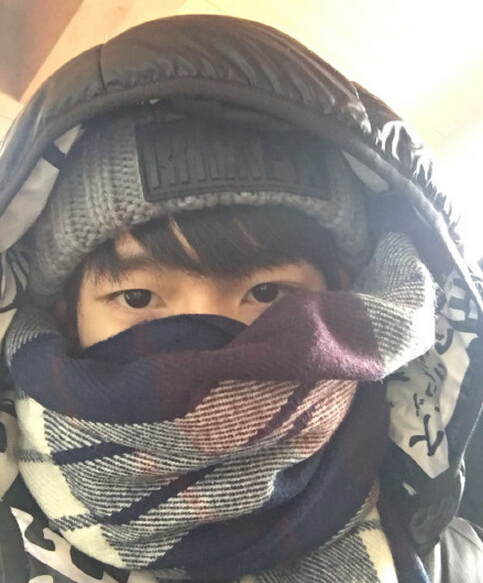face: (67, 183, 317, 513)
